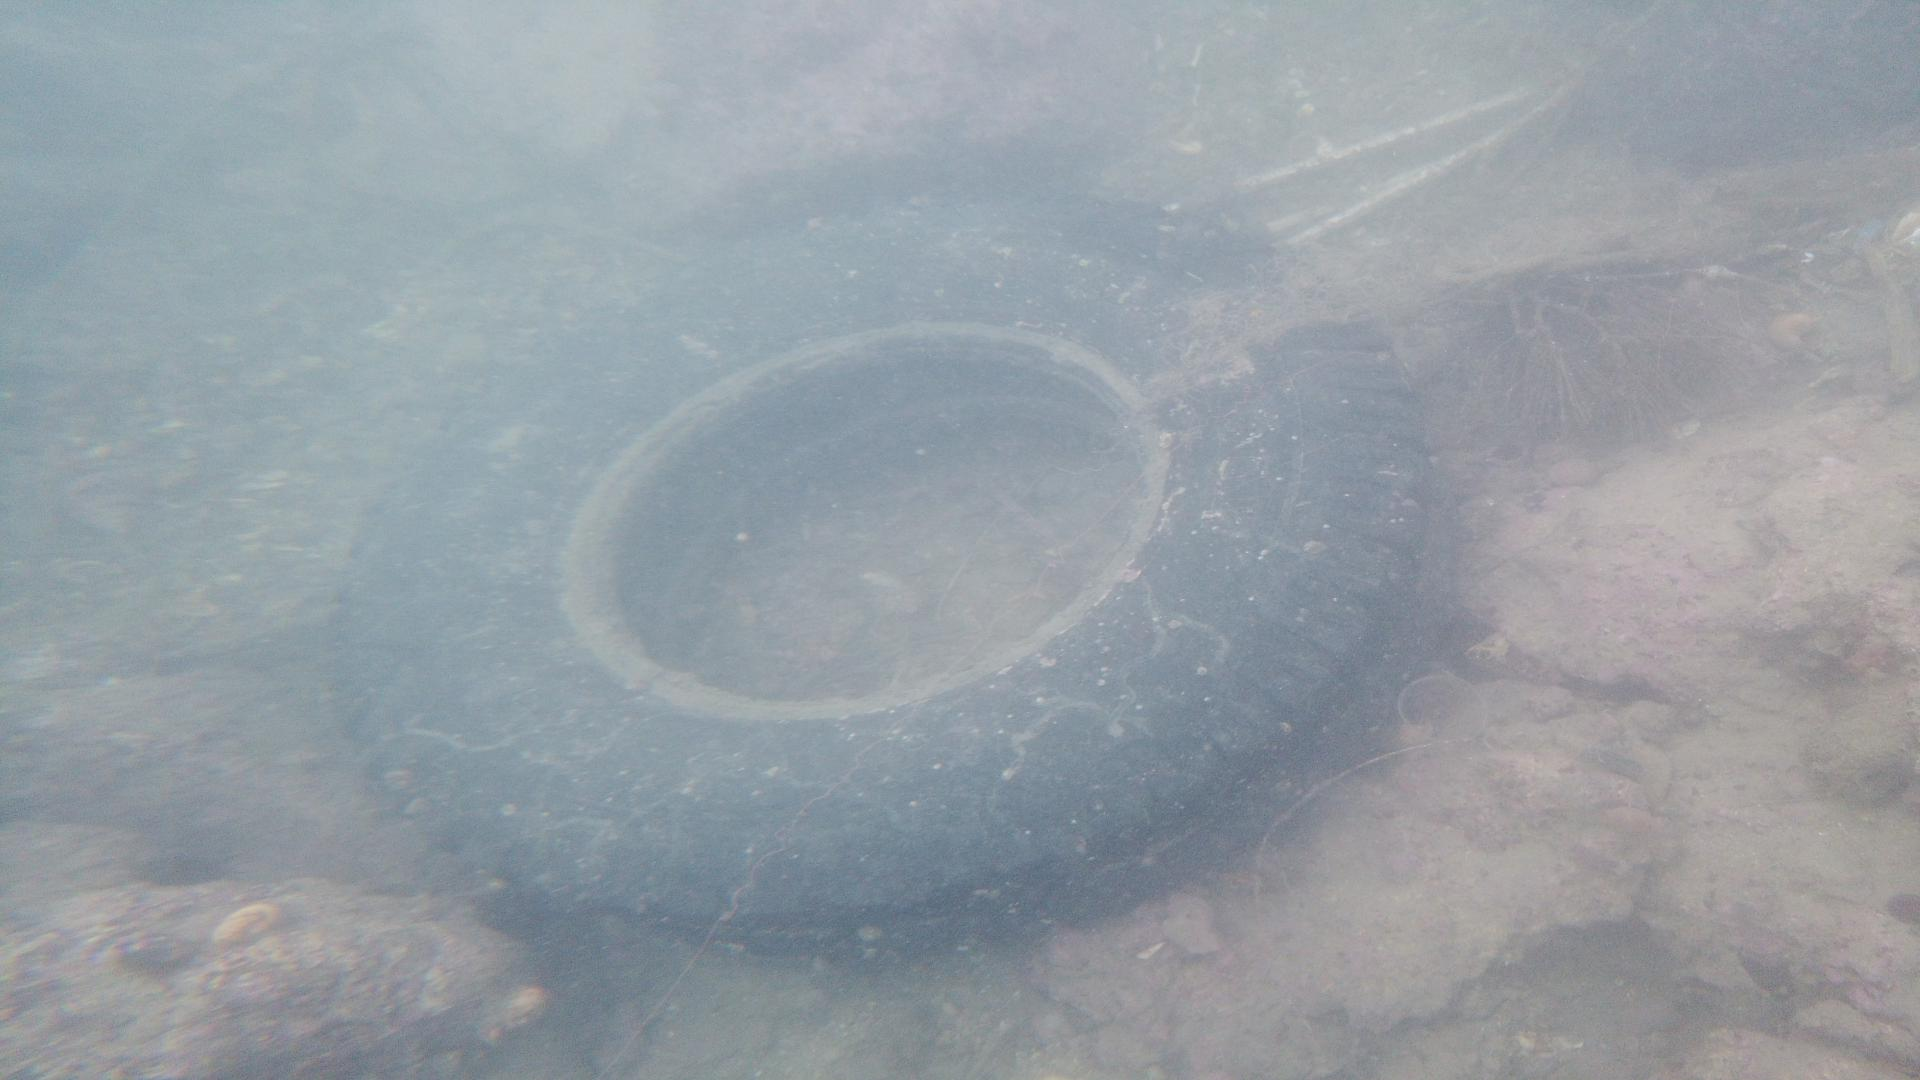tire: (331, 222, 1433, 967)
